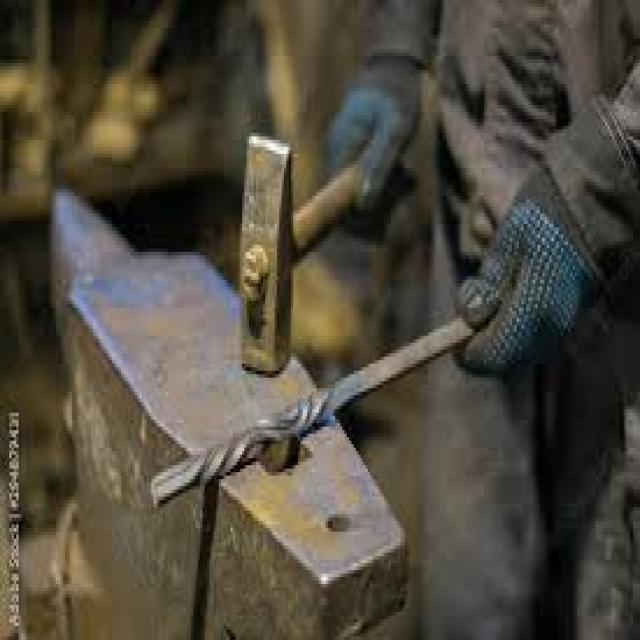hammer: (229, 125, 376, 388)
